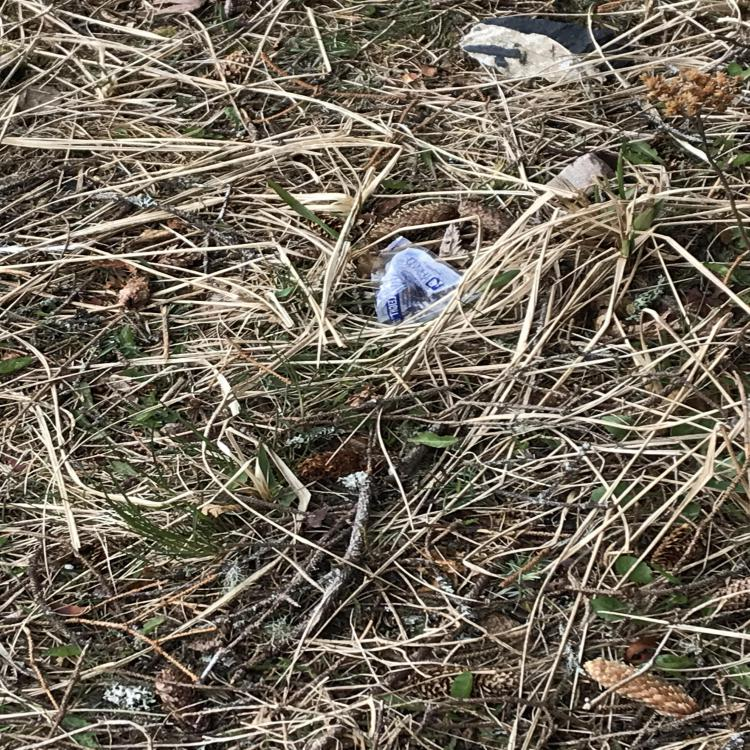Plastic film: (371, 236, 464, 325)
